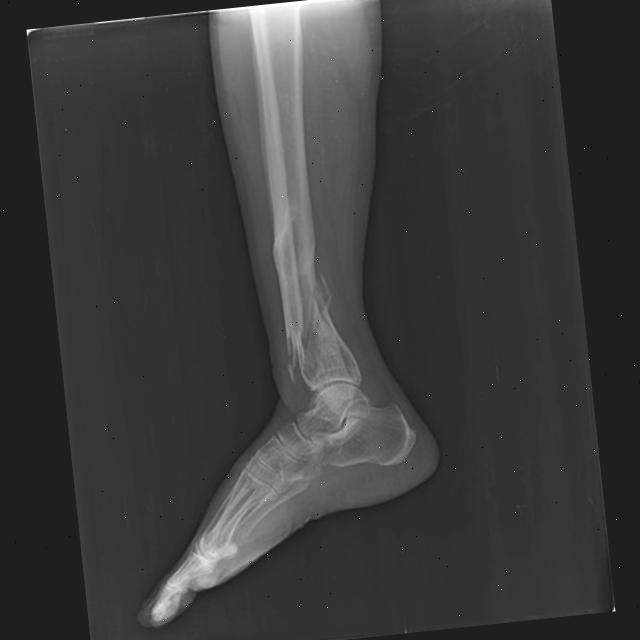Fracture: (283, 265, 334, 386), (268, 204, 304, 273)
